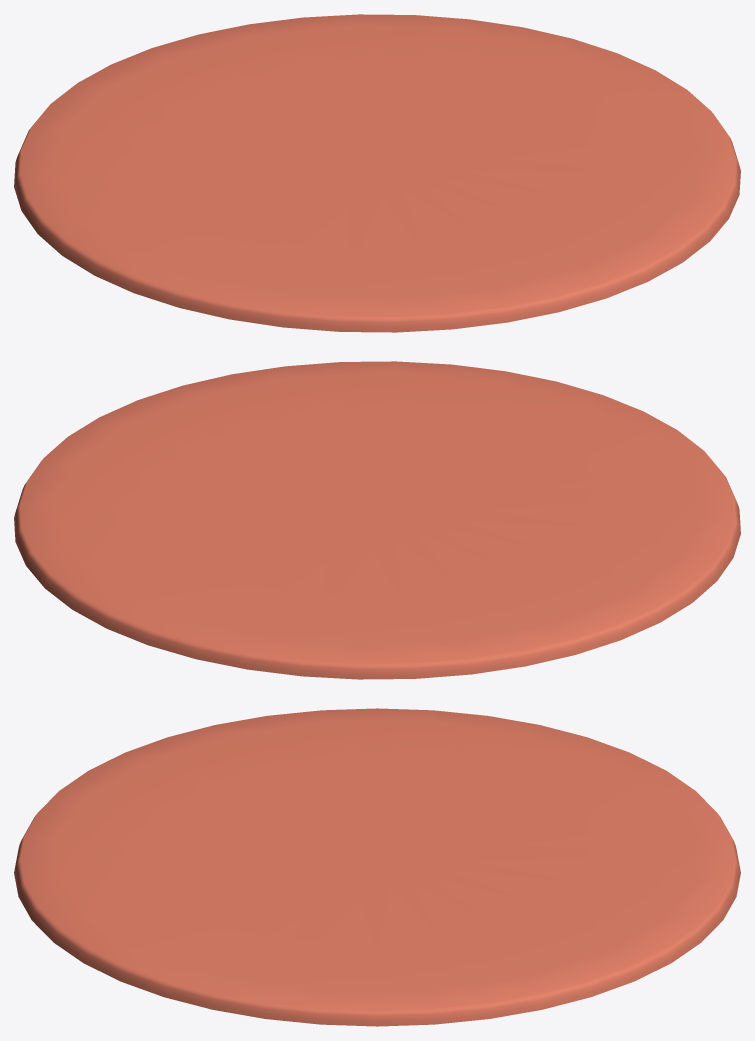
File: rug01.fbx
3 renders of one model, top to bottom at view 1: azimuth 30°, elevation 25°; view 2: azimuth 150°, elevation 25°; view 3: azimuth 270°, elevation 25°, orthographic.
Parts seen in each view (by area): view 1: rug01; view 2: rug01; view 3: rug01.
Part boxes in pixels (<box>): rug01: <box>14,14,740,332</box>; rug01: <box>14,361,740,679</box>; rug01: <box>14,708,740,1026</box>.
Bounding box in the file's own units: 289 × 7.91 × 289.
